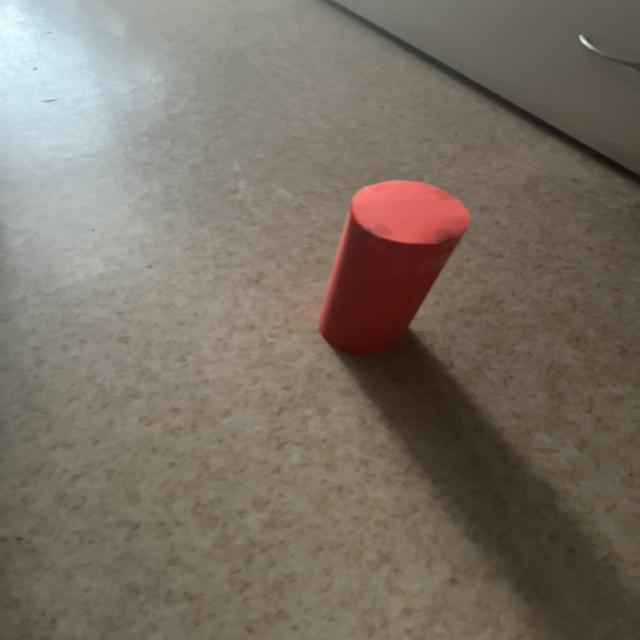przeszkoda: (319, 180, 469, 354)
